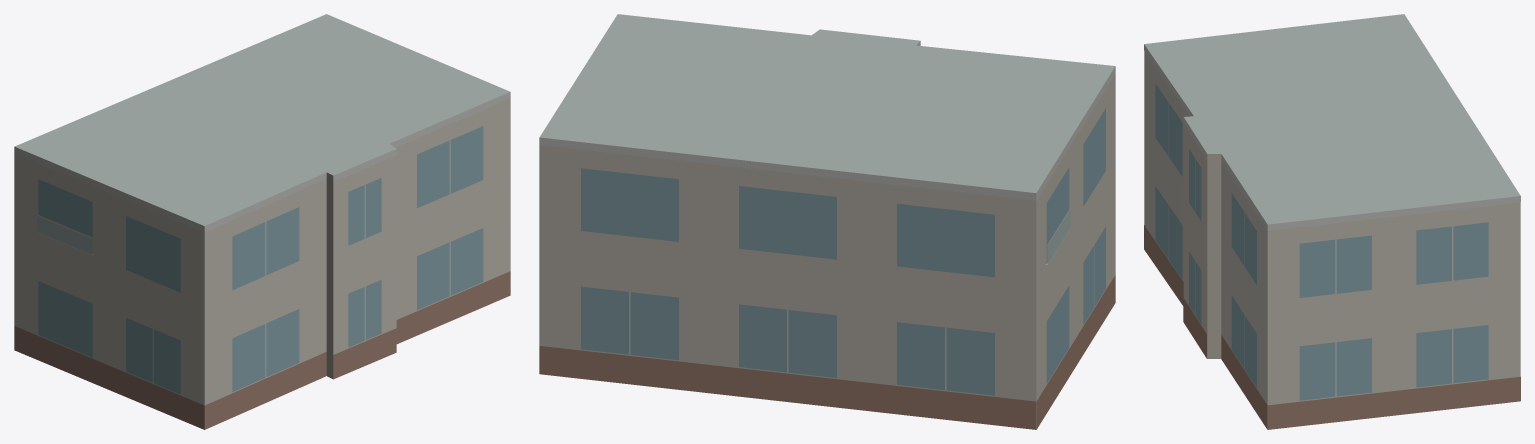
Rendered from survey-upis-32624076.glb.
The picture shows the model from 3 angles, left to right: view 1: azimuth 30°, elevation 25°; view 2: azimuth 150°, elevation 25°; view 3: azimuth 270°, elevation 25°; orthographic projection. The views are drawn at different scales.
Parts seen in each view (by area): view 1: survey-upis-32624076.tmp; view 2: survey-upis-32624076.tmp; view 3: survey-upis-32624076.tmp.
Part boxes in pixels (x1,y1,x2,y2): survey-upis-32624076.tmp: [14, 14, 510, 429]; survey-upis-32624076.tmp: [539, 14, 1115, 429]; survey-upis-32624076.tmp: [1144, 14, 1520, 429].
Size of the model in its own units: 16.95 by 7.7 by 12.82.
